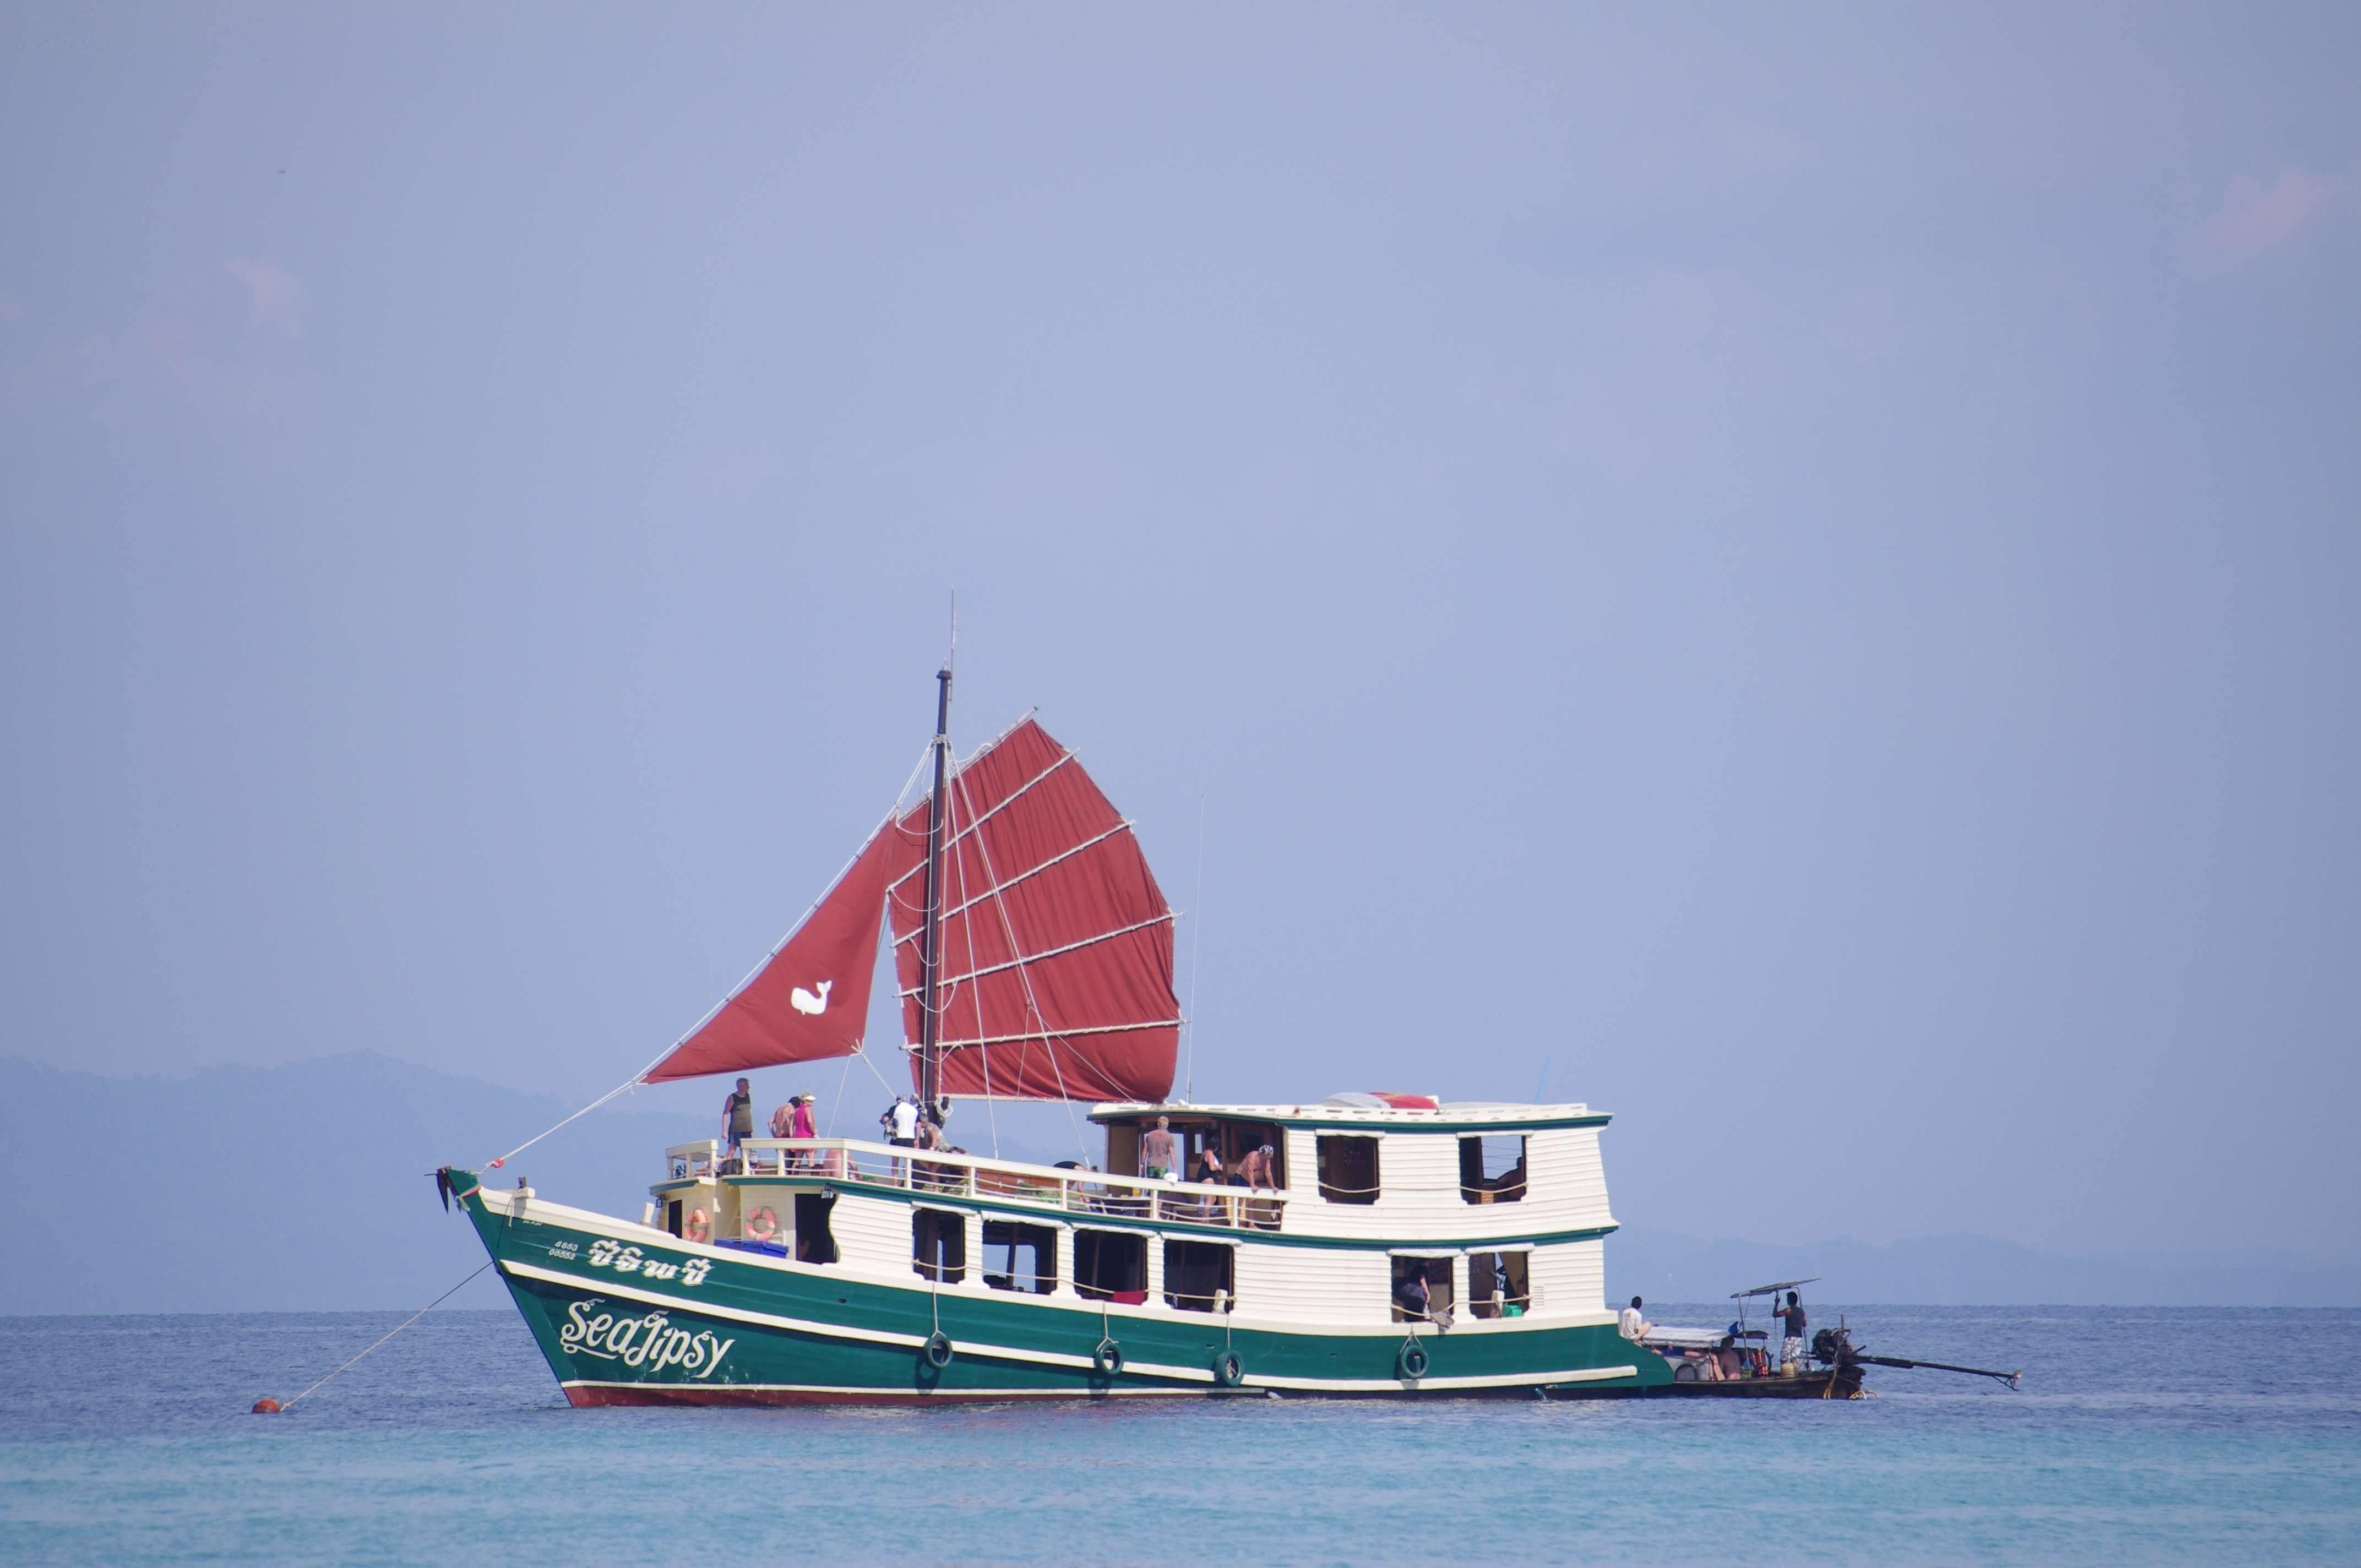fanchuan: (424, 605, 1887, 1409)
